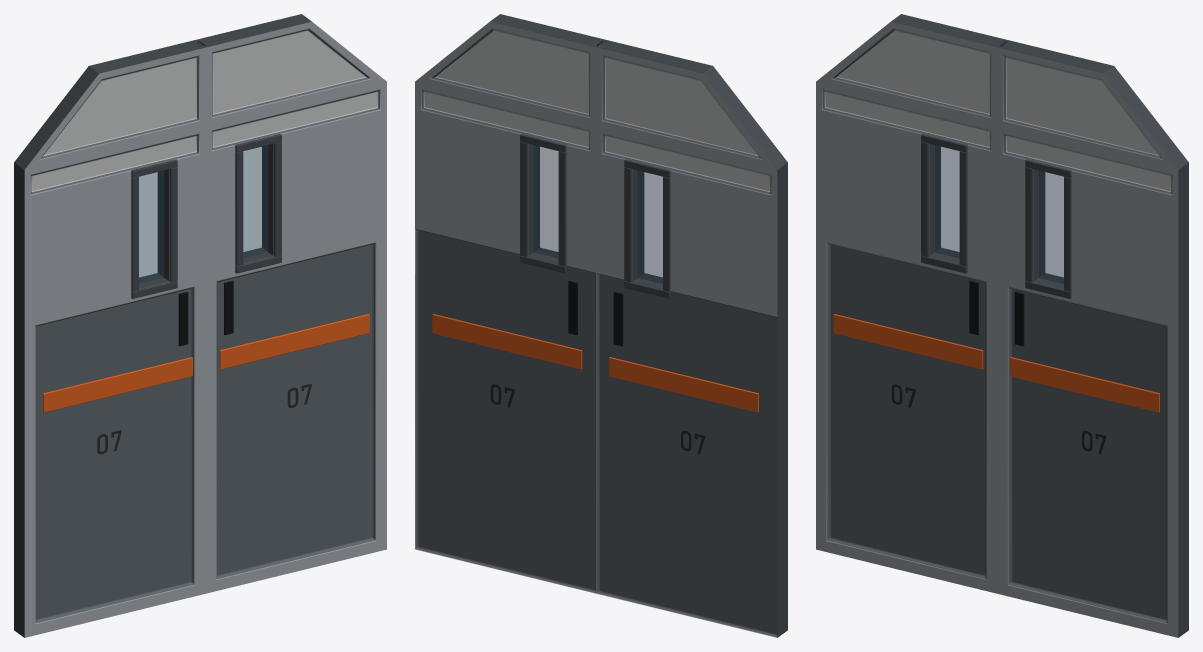
The model's file is door_sliding.glb.
3 renders of one model, left to right at view 1: azimuth 30°, elevation 25°; view 2: azimuth 150°, elevation 25°; view 3: azimuth 330°, elevation 25°, orthographic.
Parts seen in each view (by area): view 1: door_sliding_LeafL, door_sliding_LeafR, door_sliding_LeafL_detail, door_sliding_LeafR_detail, door_sliding_LeafR_glass, door_sliding_LeafL_glass; view 2: door_sliding_LeafL, door_sliding_LeafR, door_sliding_LeafL_detail, door_sliding_LeafR_detail, door_sliding_LeafR_glass, door_sliding_LeafL_glass; view 3: door_sliding_LeafR, door_sliding_LeafL, door_sliding_LeafR_detail, door_sliding_LeafL_detail, door_sliding_LeafL_glass, door_sliding_LeafR_glass.
Part boxes in pixels (<box>): door_sliding_LeafL: <box>14,40,205,637</box>; door_sliding_LeafR: <box>196,14,386,593</box>; door_sliding_LeafL_detail: <box>43,41,205,412</box>; door_sliding_LeafR_detail: <box>197,42,369,369</box>; door_sliding_LeafR_glass: <box>243,145,311,407</box>; door_sliding_LeafL_glass: <box>97,170,164,454</box>; door_sliding_LeafL: <box>596,40,787,637</box>; door_sliding_LeafR: <box>415,14,605,593</box>; door_sliding_LeafL_detail: <box>596,41,758,412</box>; door_sliding_LeafR_detail: <box>432,41,605,369</box>; door_sliding_LeafR_glass: <box>490,145,558,407</box>; door_sliding_LeafL_glass: <box>637,170,704,453</box>; door_sliding_LeafR: <box>997,40,1188,637</box>; door_sliding_LeafL: <box>816,14,1006,593</box>; door_sliding_LeafR_detail: <box>1000,41,1159,412</box>; door_sliding_LeafL_detail: <box>833,41,1007,369</box>; door_sliding_LeafL_glass: <box>891,145,959,407</box>; door_sliding_LeafR_glass: <box>1038,170,1105,453</box>.
Size of the model in its own units: 1.6 by 2.3 by 0.104.
